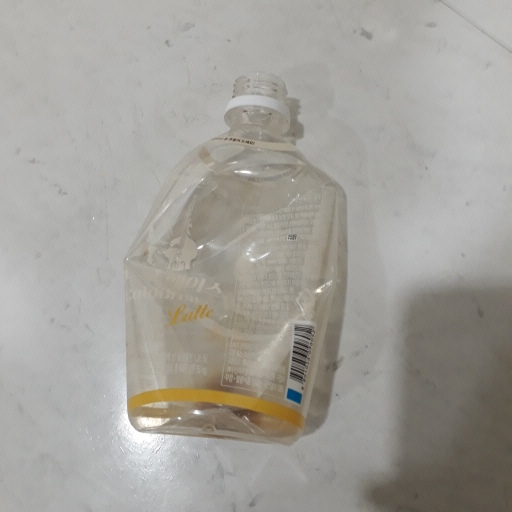Plastic_0: (120, 68, 341, 449)
